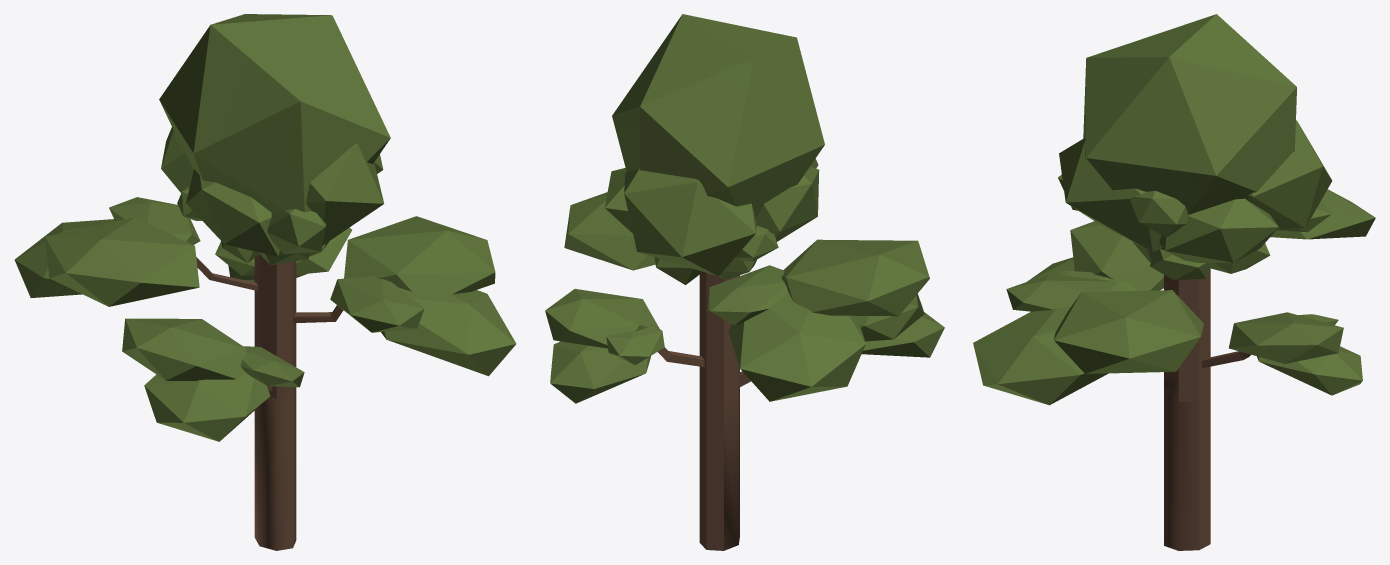
File: Tilleuil_03.fbx
3 renders of one model, left to right at view 1: azimuth 30°, elevation 25°; view 2: azimuth 150°, elevation 25°; view 3: azimuth 270°, elevation 25°, orthographic. The views are drawn at different scales.
Visible parts, largest first — view 1: Tilleuil_03; view 2: Tilleuil_03; view 3: Tilleuil_03.
Part boxes in pixels (x1=…): Tilleuil_03: x1=14, y1=14, x2=516, y2=550; Tilleuil_03: x1=545, y1=14, x2=944, y2=550; Tilleuil_03: x1=973, y1=14, x2=1375, y2=550.
Size of the model in its own units: 386 by 487 by 350.
Materials: 1 (1 with a texture image).
